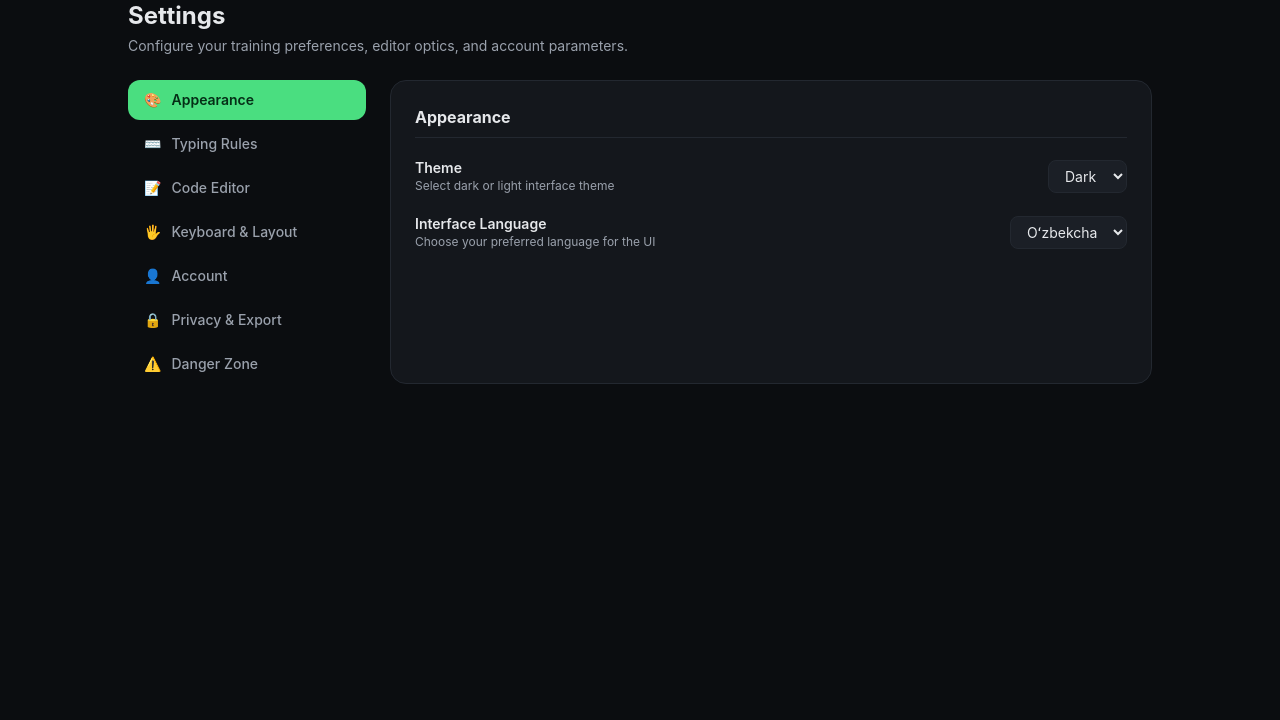
it: SettingsPage (AC-UM-8, AC-UM-9, AC-UM-11) › triggers delete account confirmation dialog
Click the text "Danger Zone": (215, 364) [172,354,258,374]
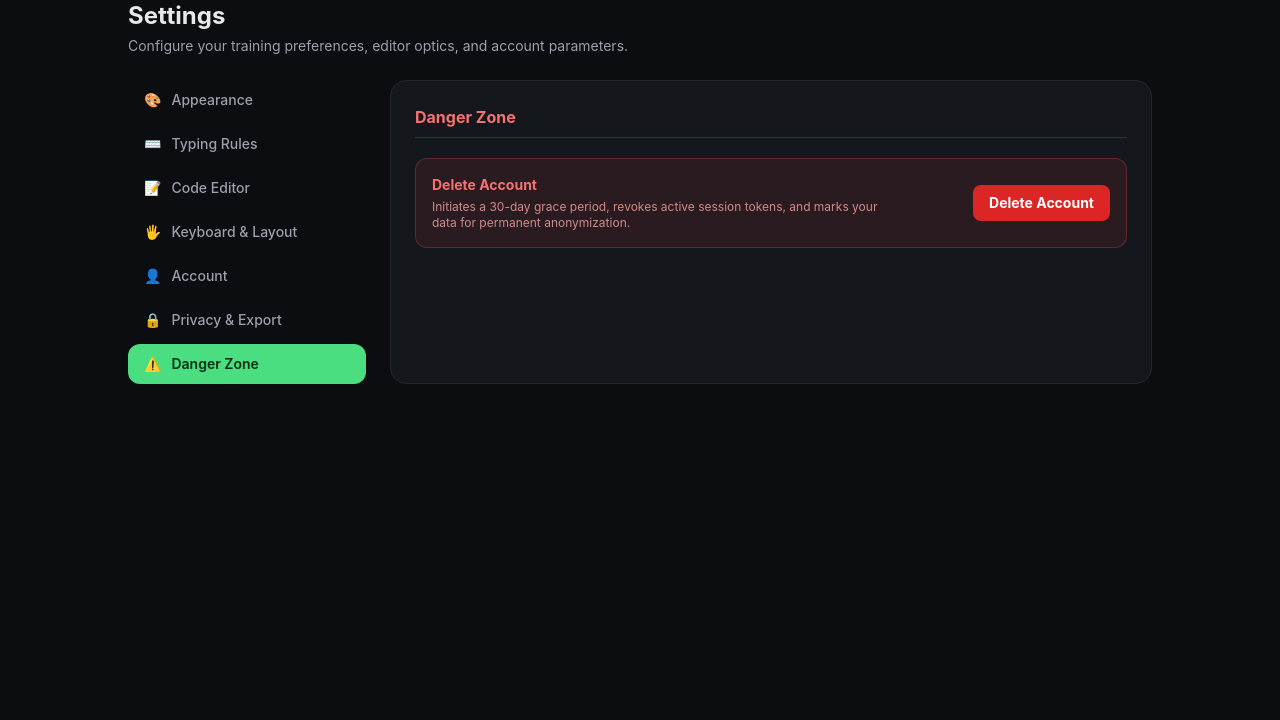
Click the button "Delete Account": (1042, 203) [973,185,1110,221]
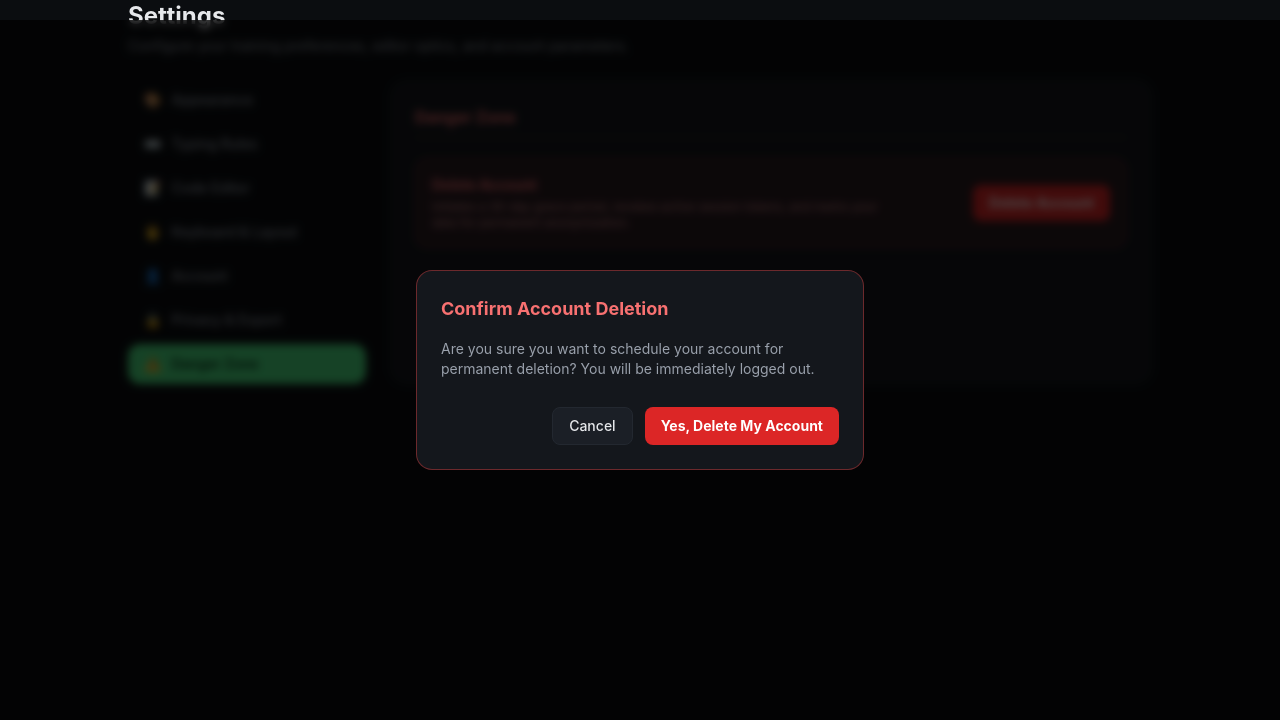
Expected: the heading "Confirm Account Deletion" is shown, [441,298,668,319]
Expected: the button "Yes, Delete My Account" is shown, [645,407,839,445]
